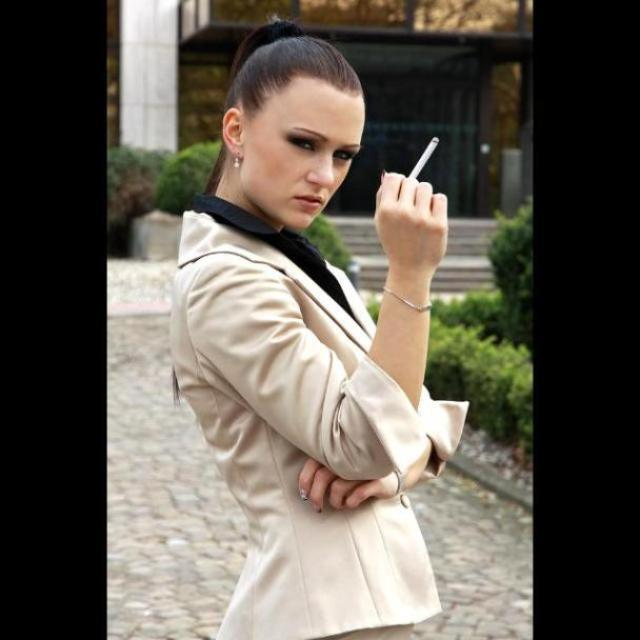rokok: (387, 134, 441, 188)
